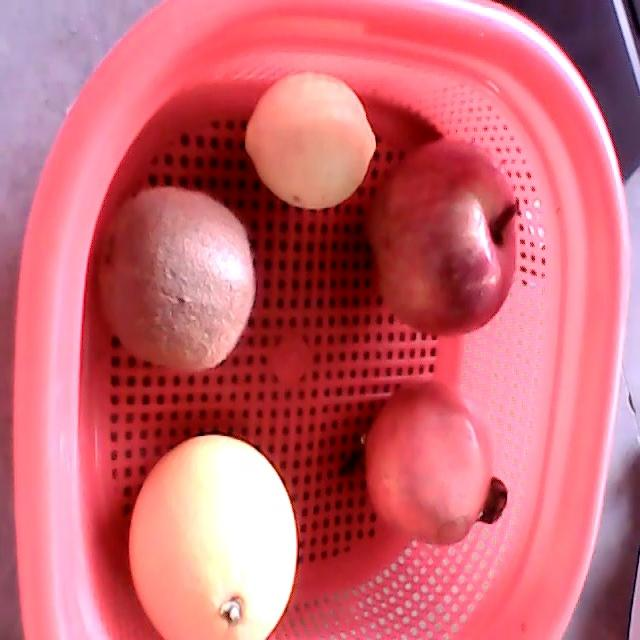apple: (361, 139, 518, 338)
kiwi: (91, 185, 256, 373)
lemon: (245, 71, 378, 212)
orange: (128, 433, 298, 639)
pomegranate: (363, 376, 510, 547)
